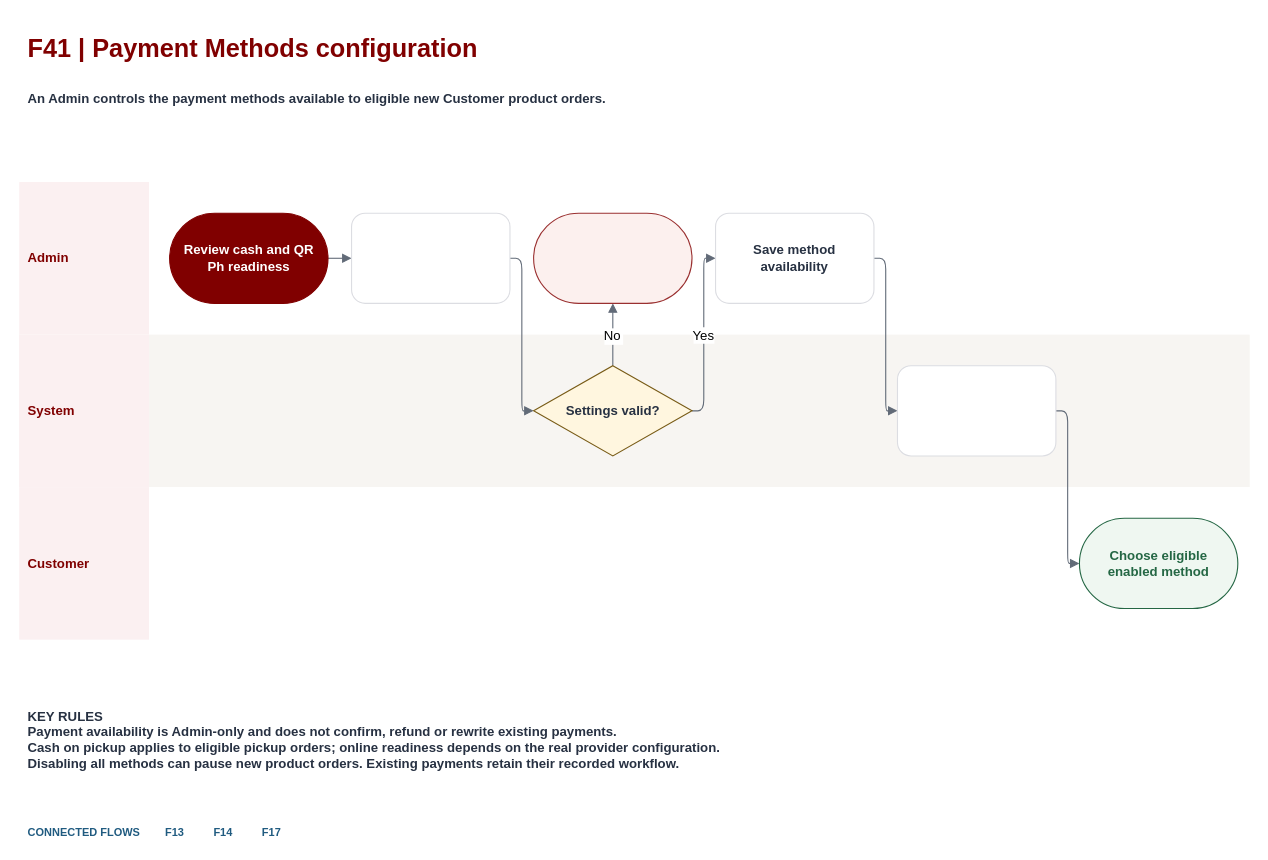
Some shapes in this 1268 by 860 pixel diagram are drawn without their labels. Each missing label, with the centre of its shape:
"Enable or disable available methods" belongs at point (430, 257).
"Publish allowed checkout choices" belongs at point (976, 410).
"Resolve configuration or validation" belongs at point (612, 257).
